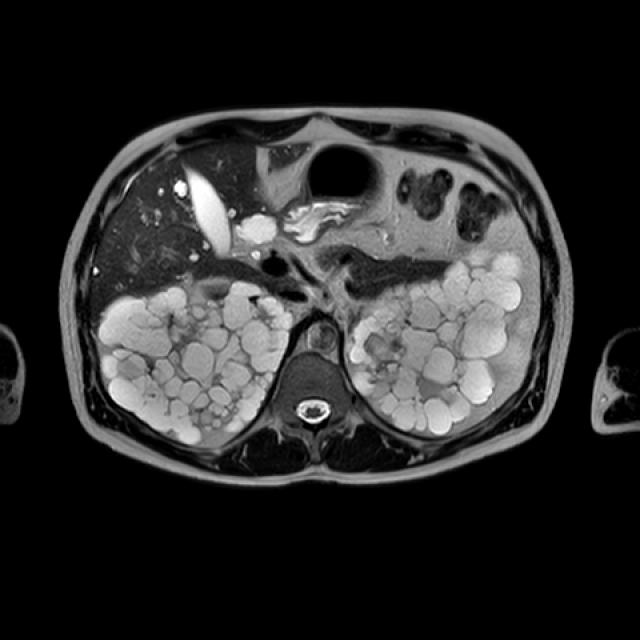sag: (95, 276, 295, 447)
sol: (347, 245, 527, 437)
